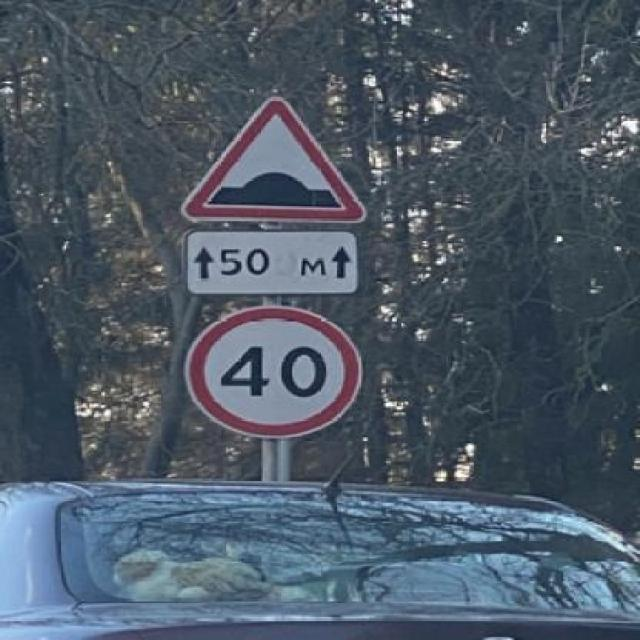forb_speed_over_40: (189, 303, 360, 439)
